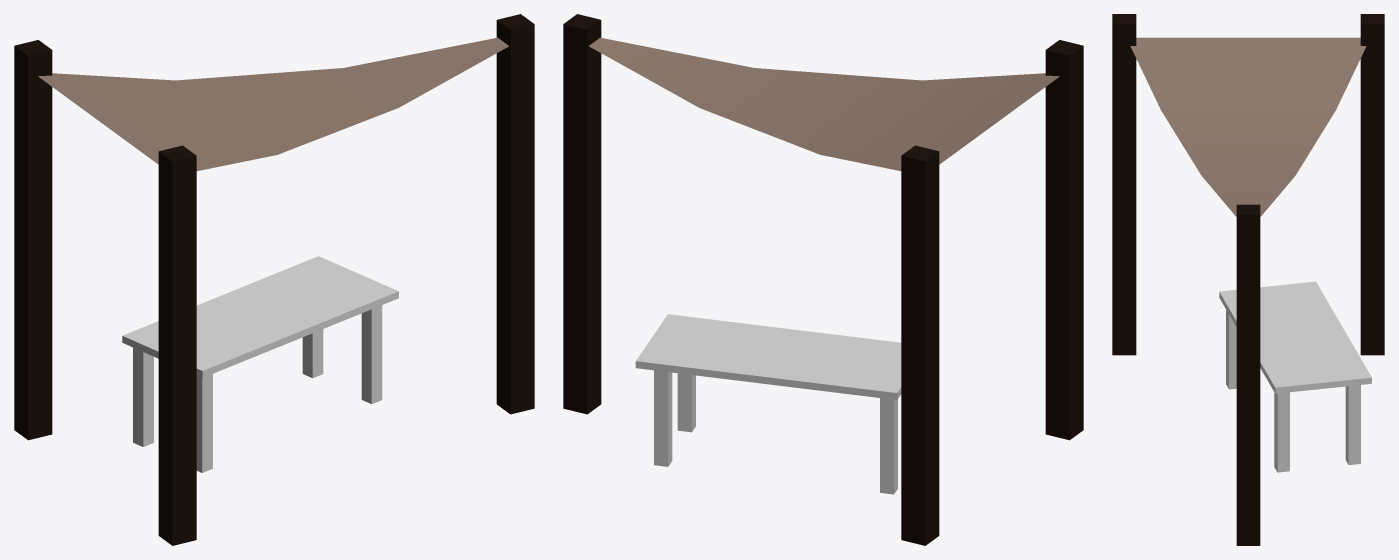
File: Shop_v2.fbx
3 views of the same model, side by side, from view 1: azimuth 30°, elevation 25°; view 2: azimuth 150°, elevation 25°; view 3: azimuth 270°, elevation 25° (orthographic). The views are drawn at different scales.
Visible parts, largest first — view 1: Tent1, Table1; view 2: Tent1, Table1; view 3: Tent1, Table1.
Boxes of the visible parts, box(x1,y1,x2,y2) form: Tent1: box(14, 14, 534, 545); Table1: box(122, 256, 398, 472); Tent1: box(563, 14, 1083, 545); Table1: box(635, 314, 901, 494); Tent1: box(1112, 14, 1384, 545); Table1: box(1219, 281, 1371, 472).
Size of the model in its own units: 18 by 16.08 by 11.36.
